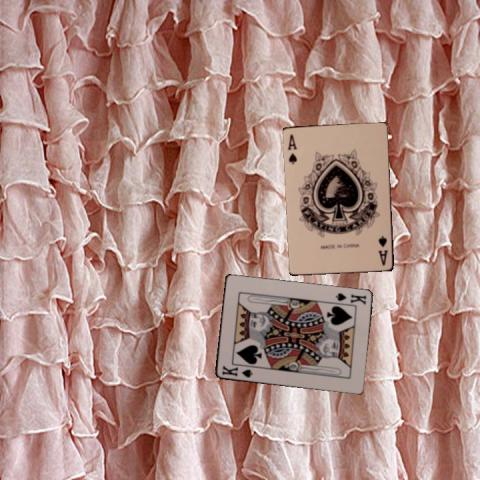As: (284, 131, 298, 166), (376, 233, 390, 267)
Ks: (332, 290, 367, 306), (219, 362, 253, 378)
